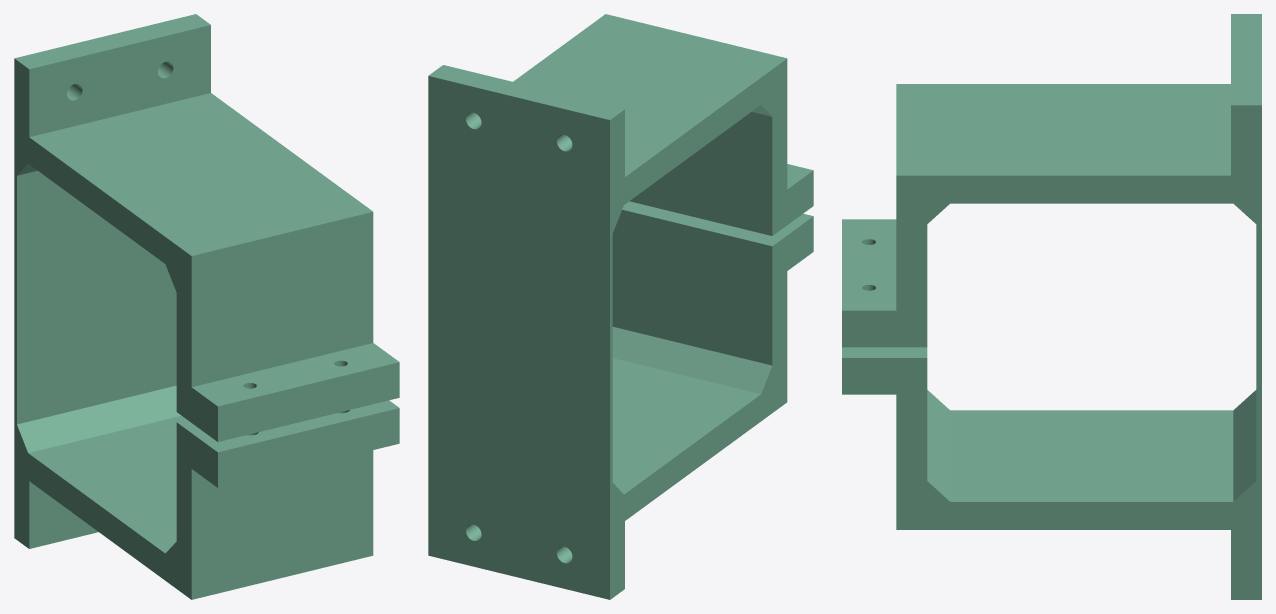
3 views of the same model, side by side, from view 1: azimuth 30°, elevation 25°; view 2: azimuth 150°, elevation 25°; view 3: azimuth 270°, elevation 25° (orthographic). The views are drawn at different scales.
Visible parts, largest first — view 1: W16_nema17_body_clamp_linear; view 2: W16_nema17_body_clamp_linear; view 3: W16_nema17_body_clamp_linear.
Boxes of the visible parts, box(x1,y1,x2,y2) form: W16_nema17_body_clamp_linear: box(14, 14, 399, 599); W16_nema17_body_clamp_linear: box(428, 14, 813, 599); W16_nema17_body_clamp_linear: box(842, 14, 1261, 599).
Size of the model in its own units: 28 by 70.6 by 54.3.
